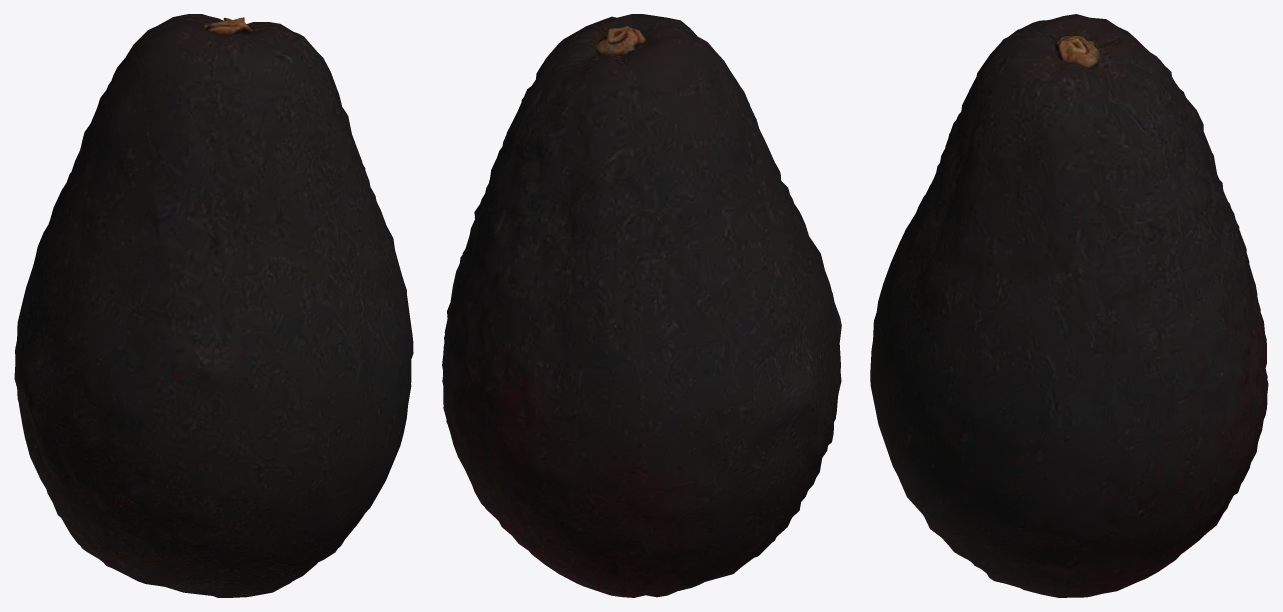
The model's file is avocado.glb.
The picture shows the model from 3 angles, left to right: view 1: azimuth 30°, elevation 25°; view 2: azimuth 150°, elevation 25°; view 3: azimuth 270°, elevation 25°; orthographic projection. The views are drawn at different scales.
Visible parts, largest first — view 1: food_avocado_01; view 2: food_avocado_01; view 3: food_avocado_01.
Part boxes in pixels (x1=…): food_avocado_01: x1=14, y1=14, x2=413, y2=597; food_avocado_01: x1=442, y1=14, x2=841, y2=597; food_avocado_01: x1=870, y1=14, x2=1268, y2=597.
Bounding box in the file's own units: 0.0952 × 0.1432 × 0.0946.
Materials: 1 (1 with a texture image).
